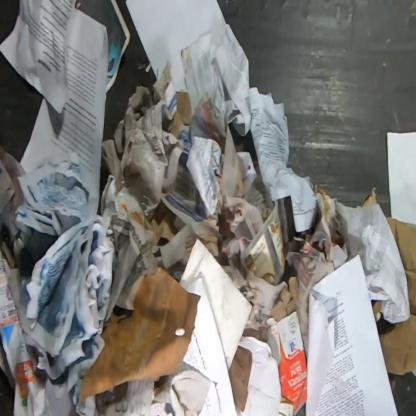cardboard: (370, 216, 415, 394), (261, 310, 307, 416), (170, 90, 192, 140), (362, 186, 377, 209)
rigid_plastic: (241, 200, 285, 286)
